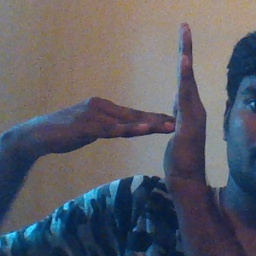Z: (102, 18, 214, 195)
